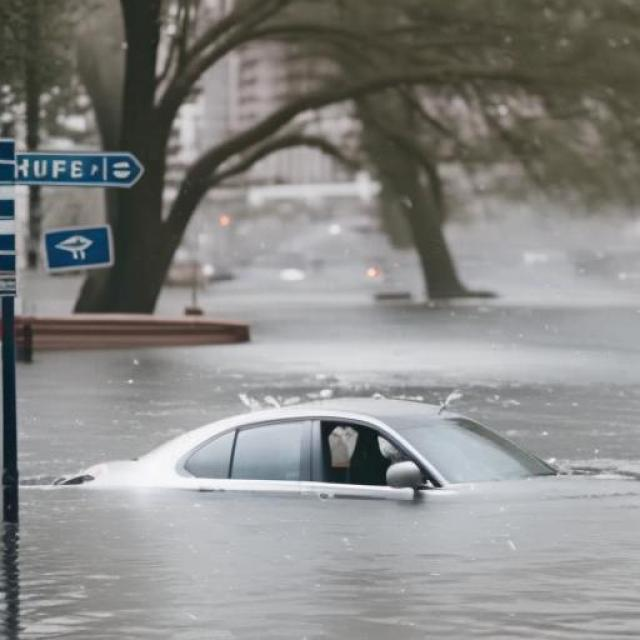water: (2, 392, 638, 637), (2, 279, 639, 489)
